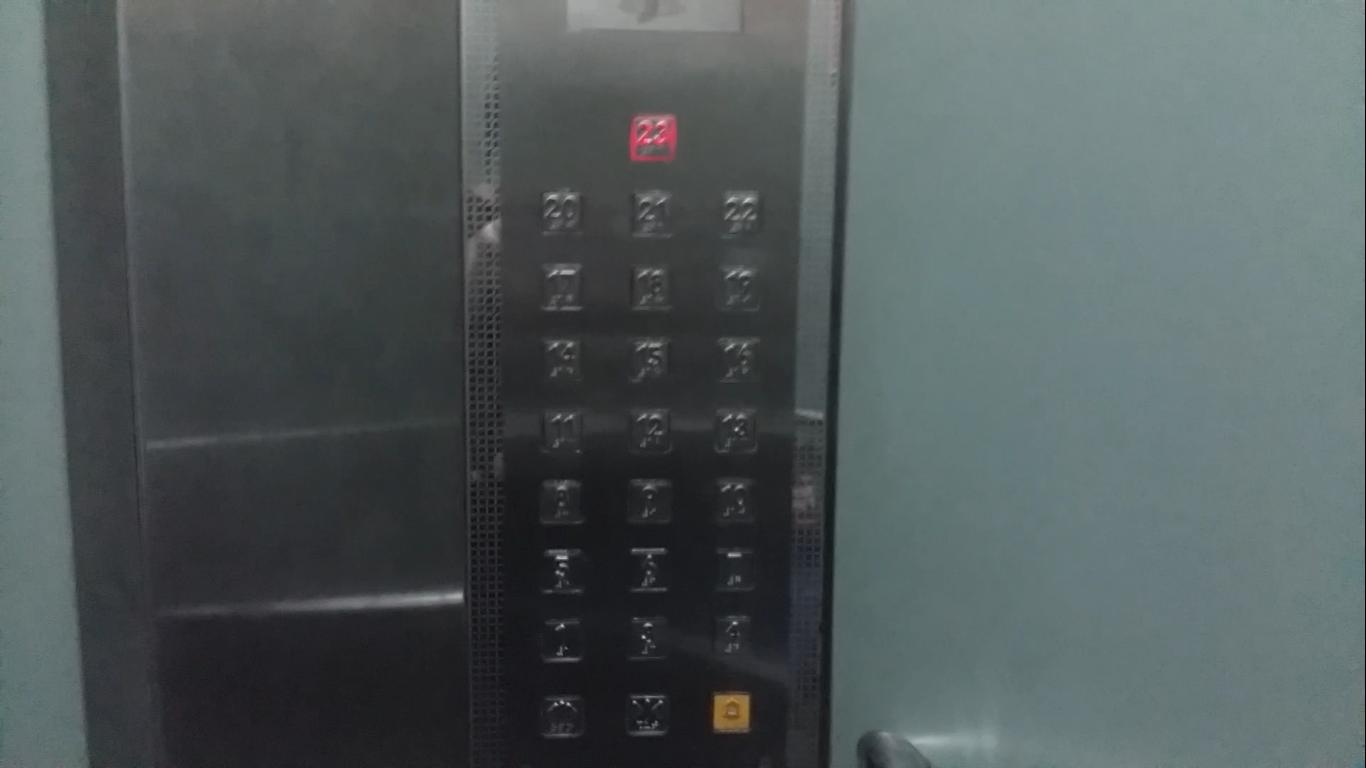1: (541, 619, 583, 664)
10: (710, 479, 758, 526)
11: (541, 408, 586, 454)
12: (625, 407, 674, 455)
13: (710, 408, 761, 454)
14: (539, 337, 583, 386)
15: (627, 336, 672, 383)
16: (717, 338, 763, 387)
17: (539, 263, 589, 313)
18: (629, 262, 674, 311)
19: (714, 262, 763, 316)
20: (536, 185, 586, 239)
21: (627, 190, 679, 240)
22: (717, 185, 765, 243)
23: (628, 113, 679, 164)
4: (713, 613, 756, 662)
5: (539, 551, 586, 599)
6: (628, 548, 671, 594)
7: (711, 546, 757, 596)
8: (539, 480, 586, 525)
9: (624, 480, 676, 528)
alarm: (710, 692, 752, 735)
blur: (630, 614, 674, 663)
close: (625, 695, 667, 740)
open: (541, 694, 584, 740)
